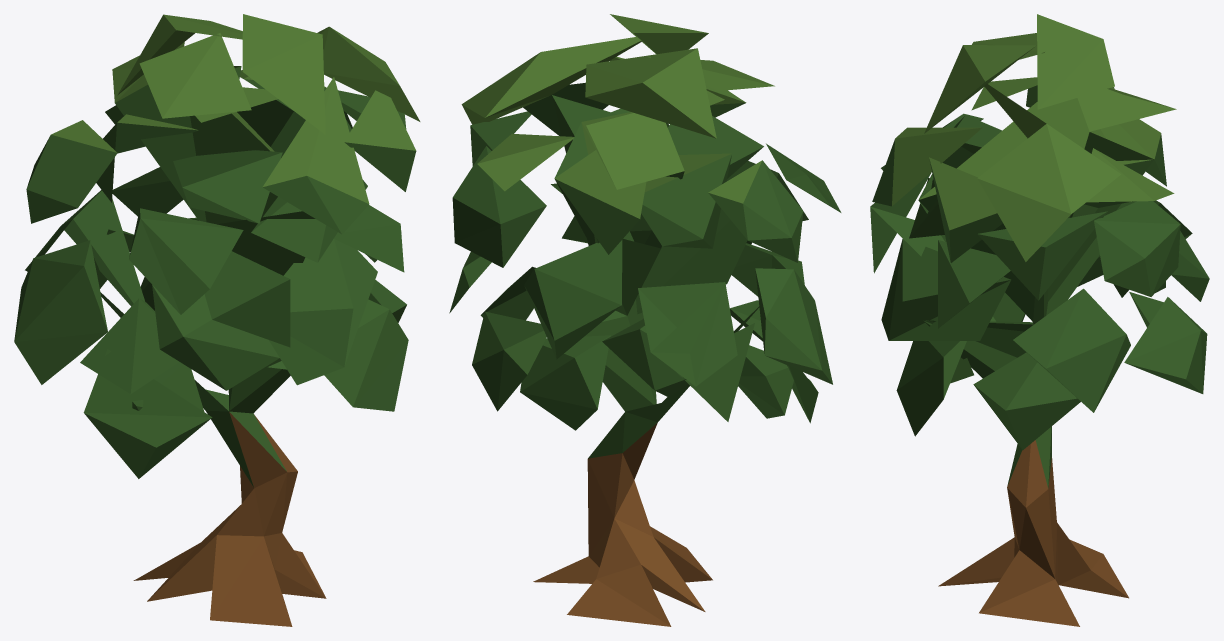
Rendered from prop.tree_a.glb.
3 views of the same model, side by side, from view 1: azimuth 30°, elevation 25°; view 2: azimuth 150°, elevation 25°; view 3: azimuth 270°, elevation 25° (orthographic). The views are drawn at different scales.
Visible parts, largest first — view 1: asset; view 2: asset; view 3: asset.
Part boxes in pixels (left/top/right/bottom): asset: left=14, top=14, right=420, bottom=626; asset: left=449, top=14, right=841, bottom=626; asset: left=870, top=14, right=1209, bottom=626.
Size of the model in its own units: 1.4 by 2 by 1.13.
